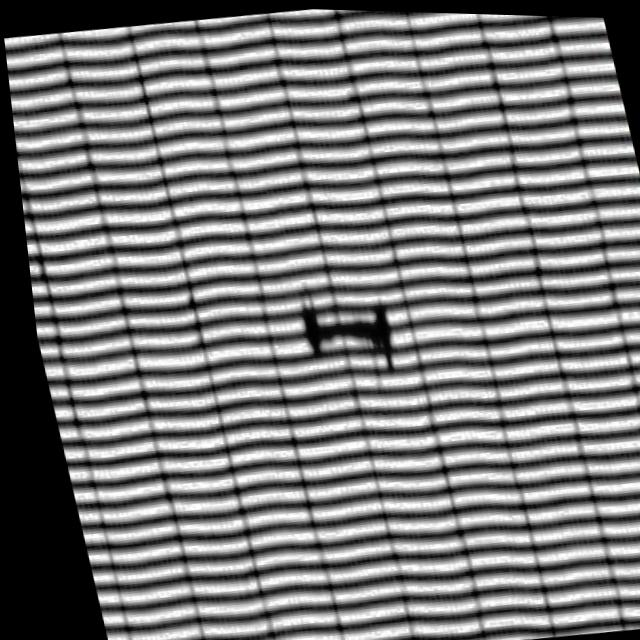Stitch: (235, 241, 437, 414)
